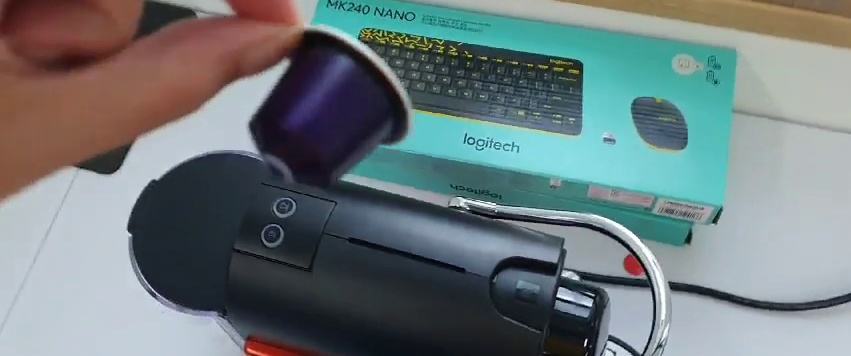capsule_2: (251, 19, 418, 192)
